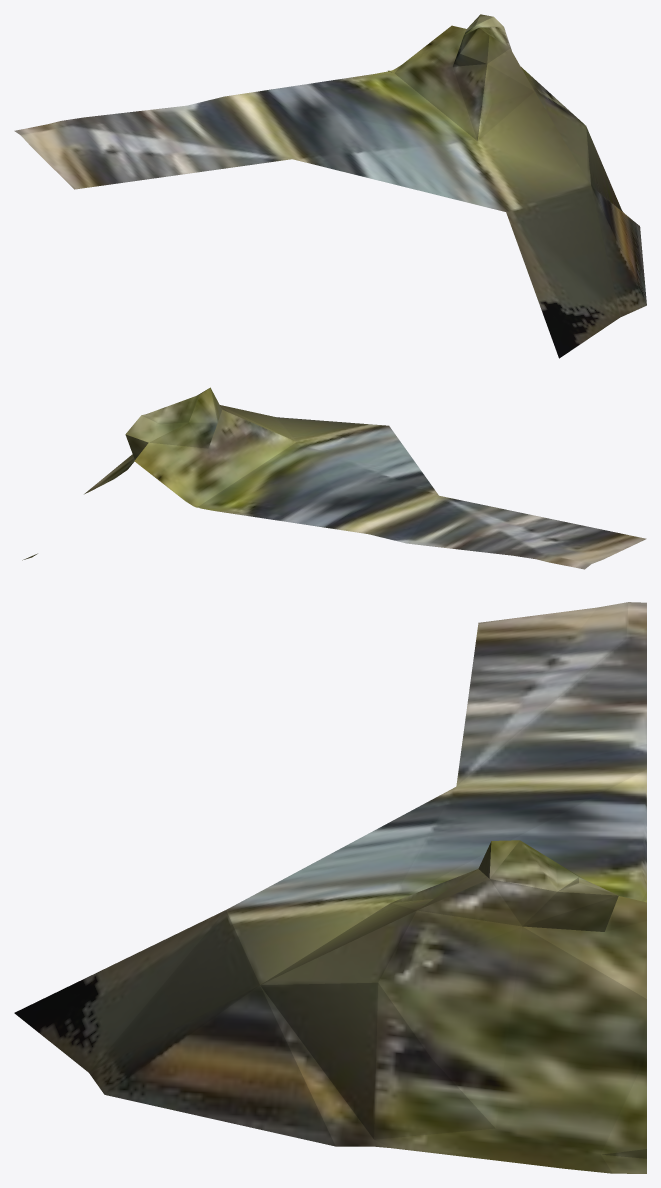
The picture shows the model from 3 angles, top to bottom: view 1: azimuth 30°, elevation 25°; view 2: azimuth 150°, elevation 25°; view 3: azimuth 270°, elevation 25°; orthographic projection. The views are drawn at different scales.
Bounding box in the file's own units: 2.69 × 0.8051 × 1.91.
1 material, 1 textured.
